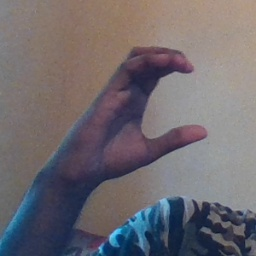C: (111, 40, 218, 166)
